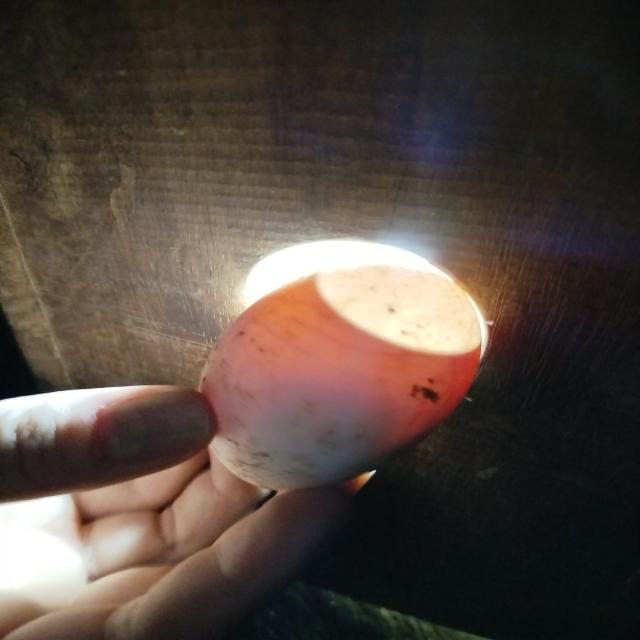Embriao: (236, 392, 435, 494)
